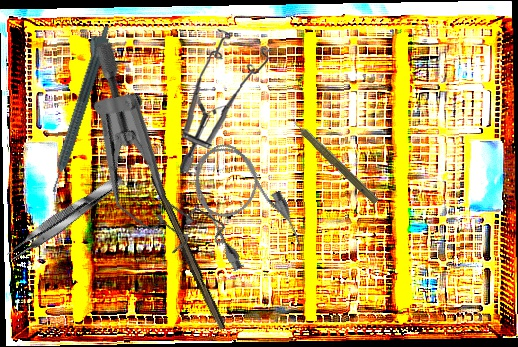Cannula: (178, 129, 308, 280)
Handpiece: (40, 22, 114, 194), (283, 109, 383, 207)
Scalpel Handle: (145, 173, 229, 332)
Speculum: (23, 35, 282, 279), (175, 27, 276, 174)
Tissue Forceps: (3, 170, 128, 266)
